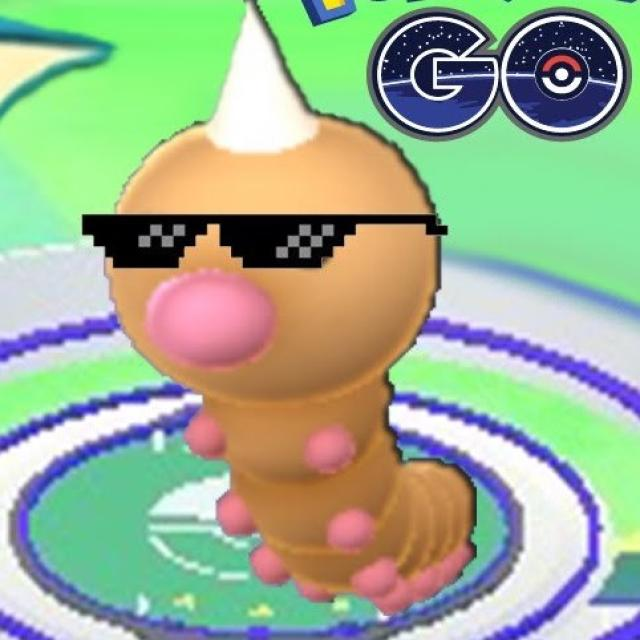Weedle: (104, 77, 443, 598)
